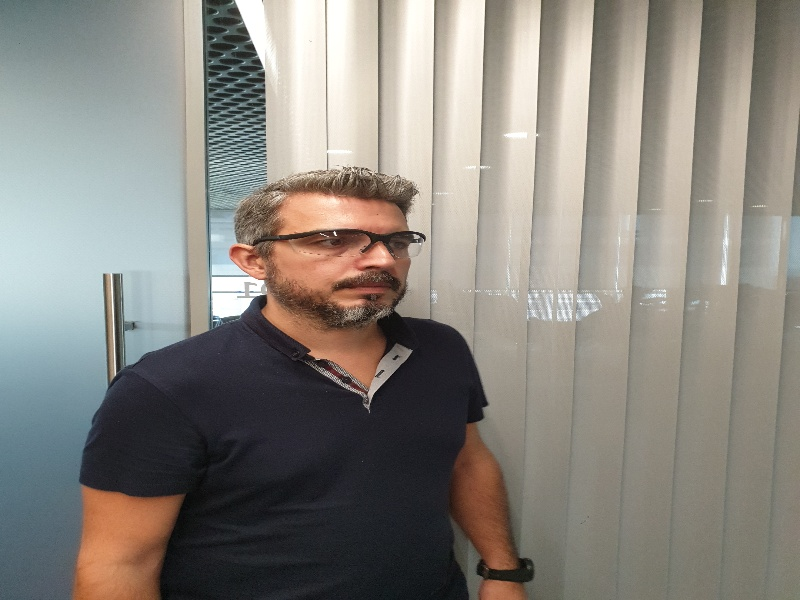Gozluk: (252, 231, 425, 257)
